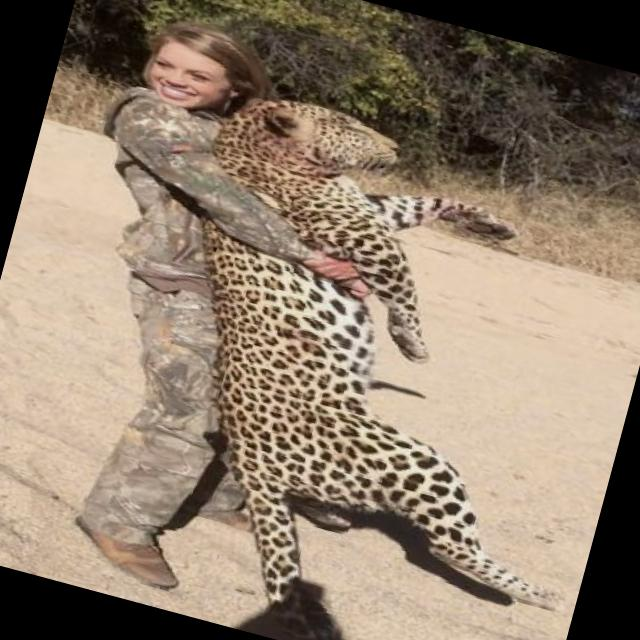Person: (0, 0, 377, 621)
